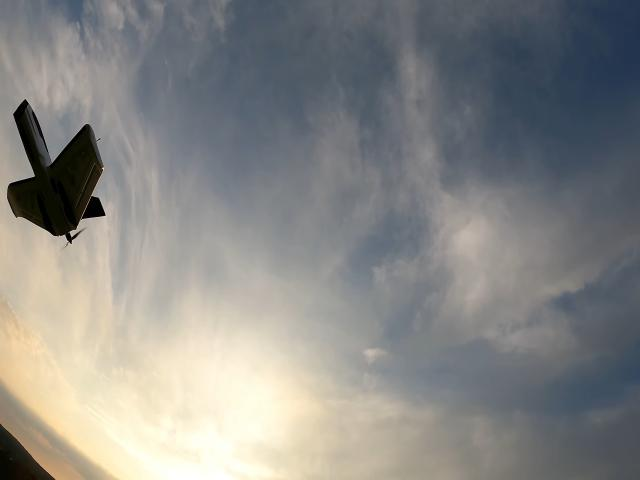plane: (6, 100, 106, 243)
